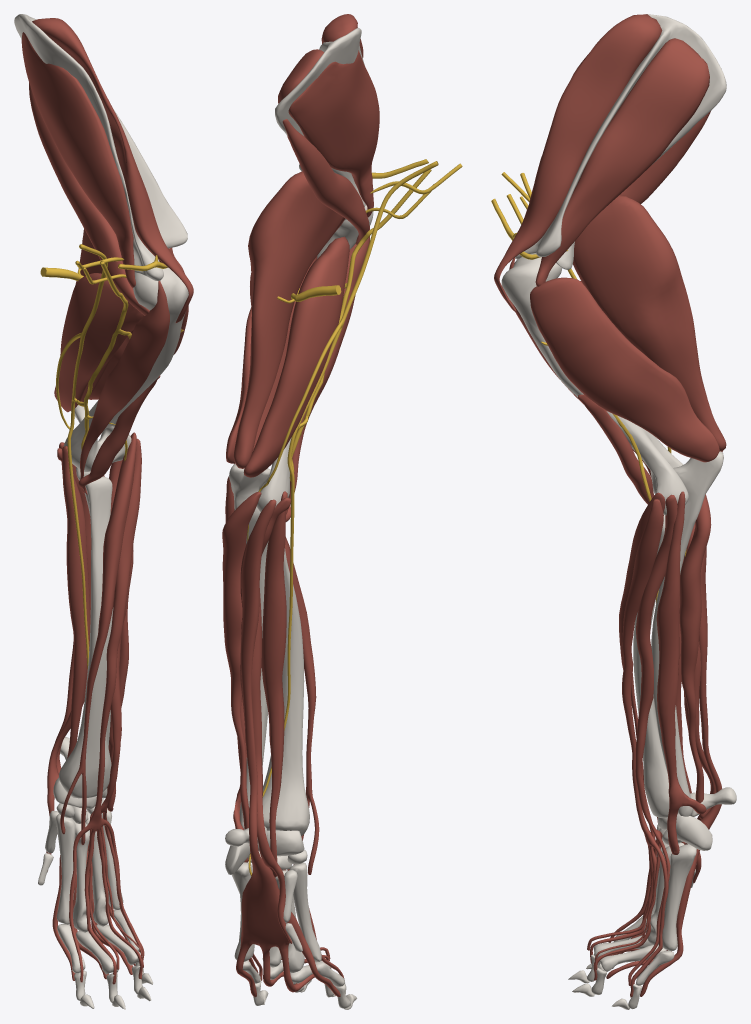
Rendered from thoracic-limb.glb.
3 views of the same model, side by side, from view 1: azimuth 30°, elevation 25°; view 2: azimuth 150°, elevation 25°; view 3: azimuth 270°, elevation 25° (orthographic). The views are drawn at different scales.
Parts seen in each view (by area): view 1: manus_bne, L_Subscapularis, L_CommonDigitalExtensor, radius_bne, L_MedialHeadTriceps, scaplula_bne, L_Supraspinatus, L_BicepsBrachii, L_ExtensorCarpiRad, L_FlexorCarpiRad_Low, humerus_bne, L_TeresMajor (+10 smaller); view 2: L_LongHeadTriceps, L_SuperficialDigitalFlexor, L_MedialHeadTriceps, L_Subscapularis, manus_bne, L_FlexorCarpiRad_Low, radius_bne, L_FlexorCarpiUlnaris, L_DeepDigitalFlexor, L_MedianUlnarNerve, L_TeresMajor, L_ExtensorCarpiRad (+11 smaller); view 3: L_LongHeadTriceps, L_LateralHeadTriceps, L_Infraspinatus, L_Supraspinatus, manus_bne, L_CommonDigitalExtensor, L_UlnarisLateralis, L_LateralDigitalExtensor, humerus_bne, scaplula_bne, L_FlexorCarpiUlnaris, ulna_bne (+7 smaller).
Part boxes in pixels (<box>): manus_bne: <box>38,737,152,1009</box>; L_Subscapularis: <box>21,32,135,287</box>; L_CommonDigitalExtensor: <box>69,438,144,984</box>; radius_bne: <box>59,476,113,798</box>; L_MedialHeadTriceps: <box>54,273,143,412</box>; scaplula_bne: <box>14,14,187,280</box>; L_Supraspinatus: <box>32,18,193,322</box>; L_BicepsBrachii: <box>80,280,169,479</box>; L_ExtensorCarpiRad: <box>60,432,136,844</box>; L_FlexorCarpiRad_Low: <box>61,446,90,758</box>; humerus_bne: <box>63,267,188,471</box>; L_TeresMajor: <box>29,82,149,315</box>; L_LongHeadTriceps: <box>233,171,345,468</box>; L_SuperficialDigitalFlexor: <box>236,499,340,997</box>; L_MedialHeadTriceps: <box>243,236,349,477</box>; L_Subscapularis: <box>288,50,379,217</box>; manus_bne: <box>225,826,356,1009</box>; L_FlexorCarpiRad_Low: <box>261,491,287,877</box>; radius_bne: <box>262,548,309,835</box>; L_FlexorCarpiUlnaris: <box>222,491,261,829</box>; L_DeepDigitalFlexor: <box>240,497,292,943</box>; L_MedianUlnarNerve: <box>247,161,438,875</box>; L_TeresMajor: <box>282,119,369,244</box>; L_ExtensorCarpiRad: <box>234,463,319,874</box>; L_LongHeadTriceps: <box>573,194,726,451</box>; L_LateralHeadTriceps: <box>530,277,719,462</box>; L_Infraspinatus: <box>535,38,709,286</box>; L_Supraspinatus: <box>494,14,662,312</box>; manus_bne: <box>568,787,736,1009</box>; L_CommonDigitalExtensor: <box>590,499,668,997</box>; L_UlnarisLateralis: <box>656,491,706,854</box>; L_LateralDigitalExtensor: <box>587,494,677,985</box>; humerus_bne: <box>501,253,688,515</box>; scaplula_bne: <box>515,14,726,269</box>; L_FlexorCarpiUlnaris: <box>679,494,711,802</box>; ulna_bne: <box>651,451,723,816</box>.
Bounding box in the file's own units: 0.157 × 1 × 0.2349.
